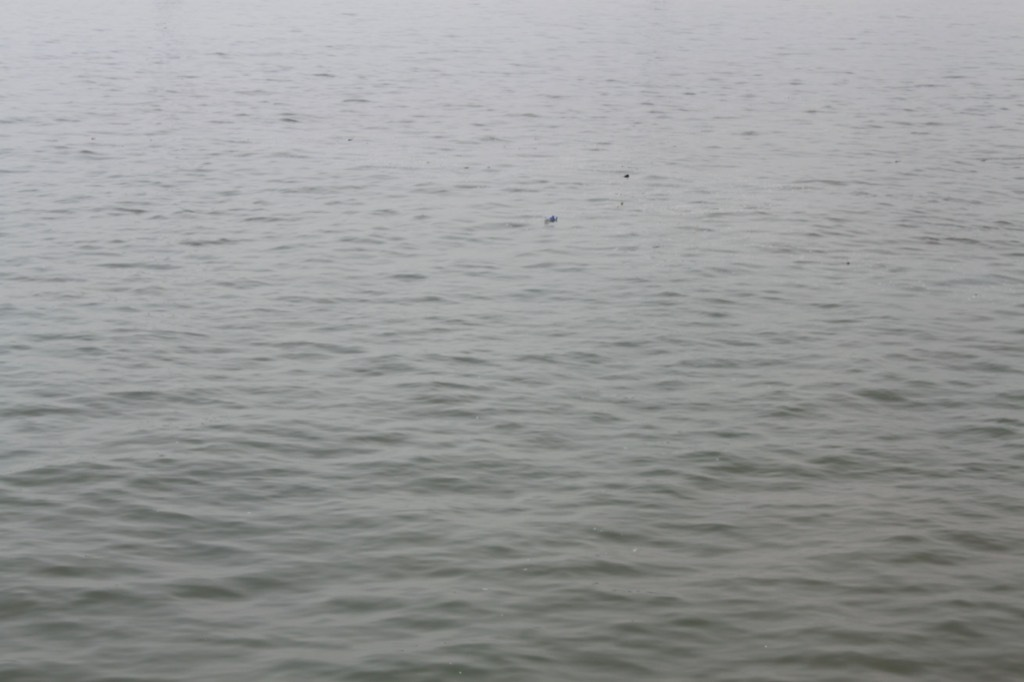plastic: (541, 210, 562, 226), (842, 256, 857, 270), (619, 171, 636, 182)
